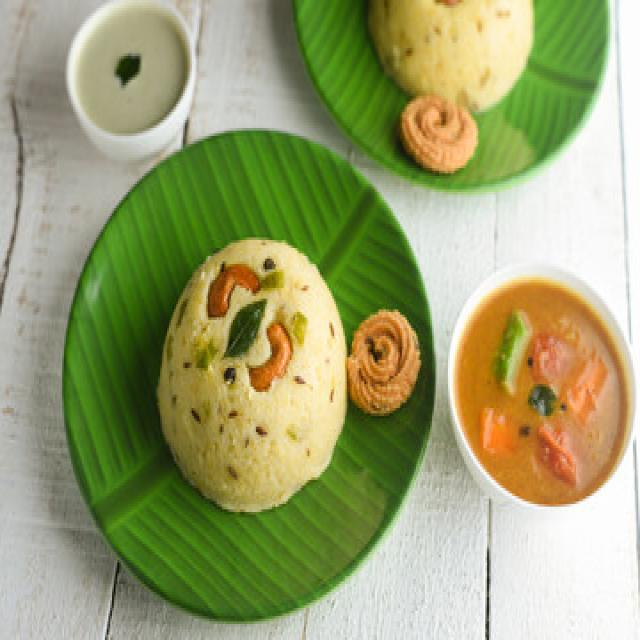PONGAL: (161, 240, 342, 504)
SAMBAR: (454, 279, 625, 504)
WHITE CHUTNEY: (77, 10, 187, 131)
